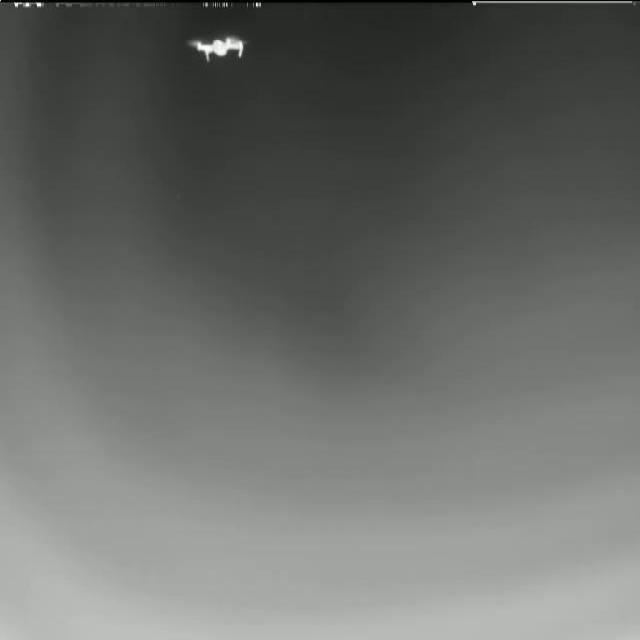DRONE: (185, 31, 248, 61)
